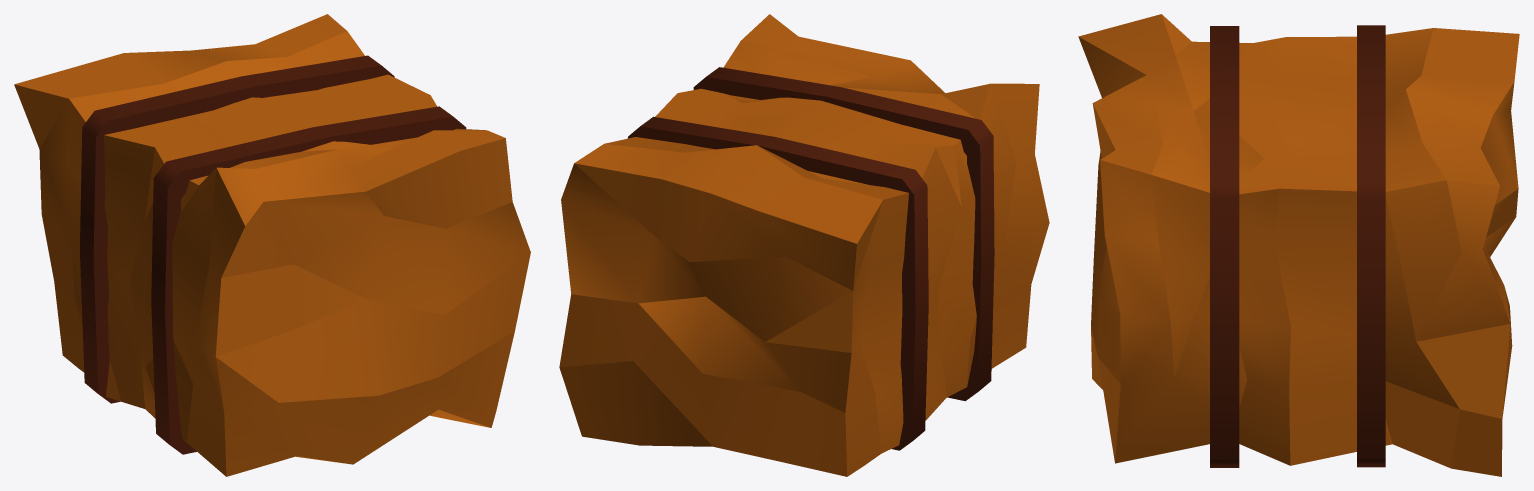
File: Hay_4_1.fbx
3 renders of one model, left to right at view 1: azimuth 30°, elevation 25°; view 2: azimuth 150°, elevation 25°; view 3: azimuth 270°, elevation 25°, orthographic. The views are drawn at different scales.
Visible parts, largest first — view 1: Hay_4_1; view 2: Hay_4_1; view 3: Hay_4_1.
Boxes of the visible parts, x1,y1,x2,y2 form: Hay_4_1: (14,14,530,476); Hay_4_1: (559,14,1049,476); Hay_4_1: (1078,14,1519,476).
Bounding box in the file's own units: 22.49 × 20.86 × 25.14.
